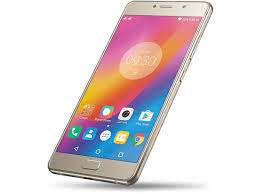lenovo: (45, 1, 215, 194)
